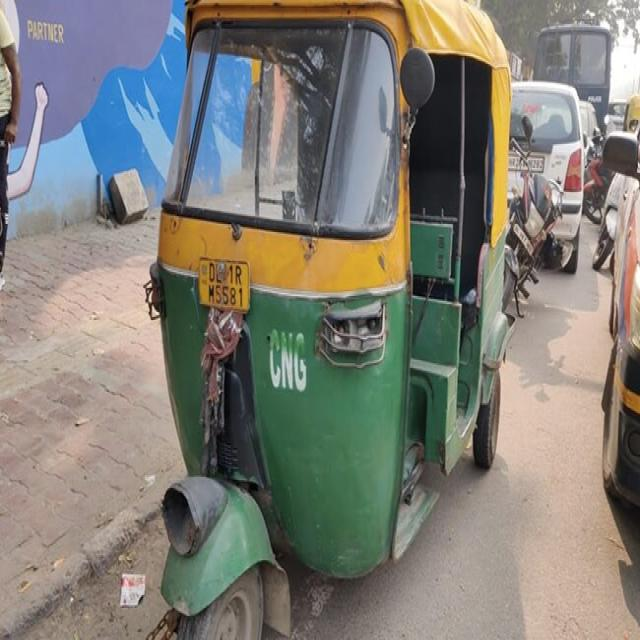autorickshaw: (146, 0, 512, 638)
bus: (535, 24, 611, 129)
car: (510, 81, 585, 272)
motorcycle: (502, 116, 562, 316)
